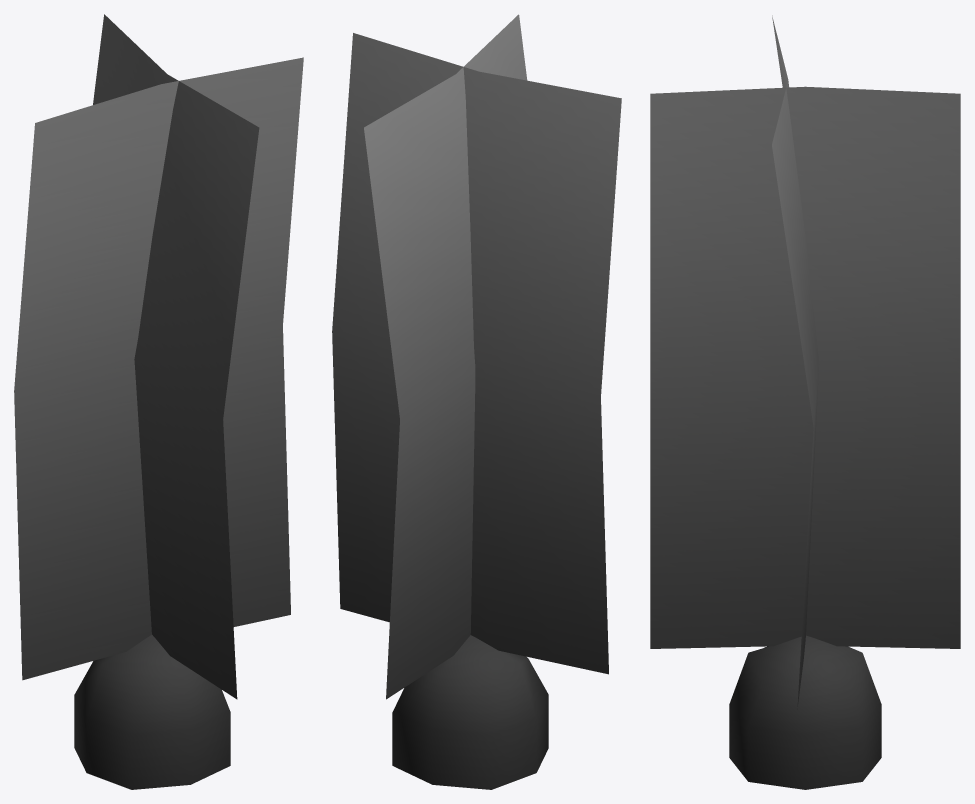
The model's file is RootSapling_MESH_01.fbx.
3 renders of one model, left to right at view 1: azimuth 30°, elevation 25°; view 2: azimuth 150°, elevation 25°; view 3: azimuth 270°, elevation 25°, orthographic.
Parts seen in each view (by area): view 1: RootSapling_MESH_01; view 2: RootSapling_MESH_01; view 3: RootSapling_MESH_01.
Boxes of the visible parts, <box> form: RootSapling_MESH_01: <box>14,14,303,789</box>; RootSapling_MESH_01: <box>332,14,621,789</box>; RootSapling_MESH_01: <box>650,15,960,789</box>.
Size of the model in its own units: 22.13 by 53.42 by 22.13.
